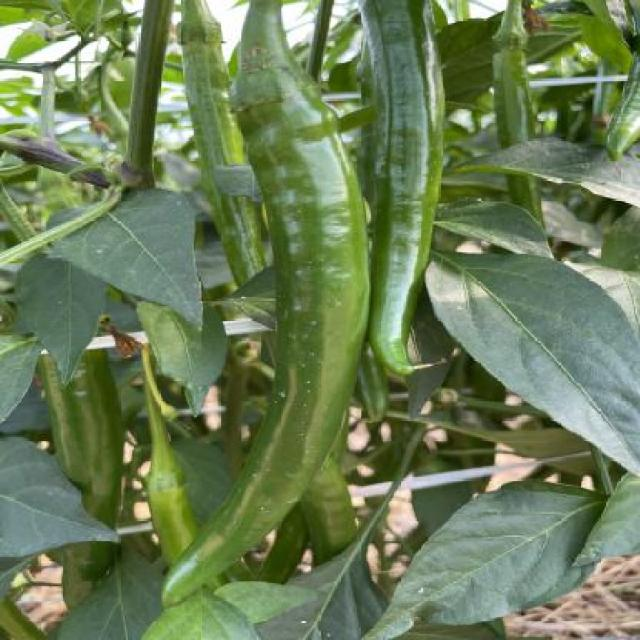green chilli: (160, 29, 372, 608)
